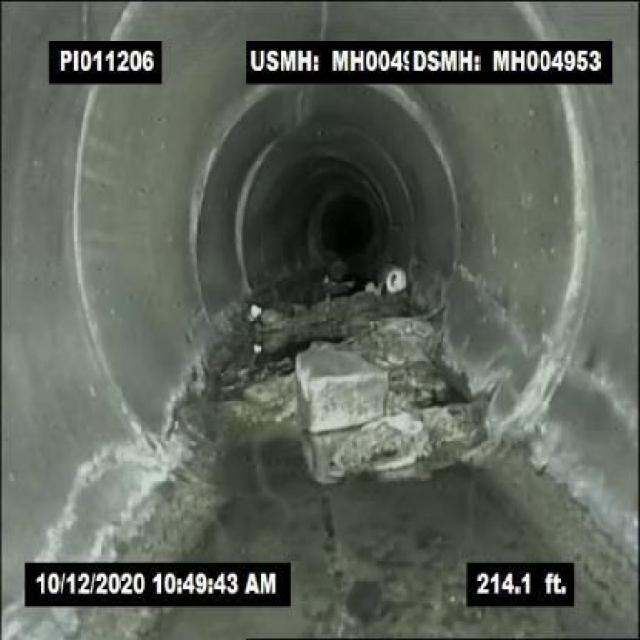Crack: (43, 442, 131, 560), (460, 263, 537, 357), (315, 488, 360, 638), (568, 354, 638, 441), (75, 2, 97, 40), (312, 1, 334, 37)
Obstacle: (314, 399, 492, 483), (291, 337, 394, 438)
